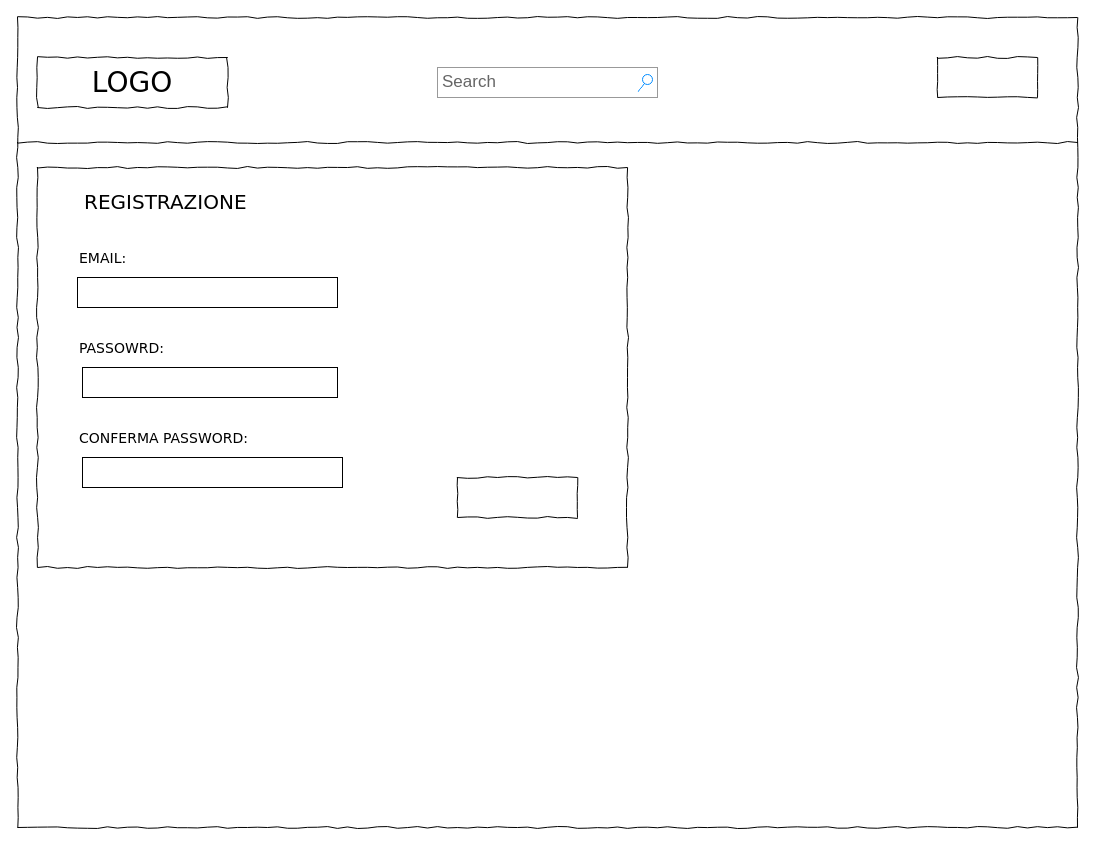
This 1095x845 diagram has some shape labels left out. Each missing label, with the centre of its shape:
"accedi" goes at point 987,77.
"conferma" goes at point 517,497.
